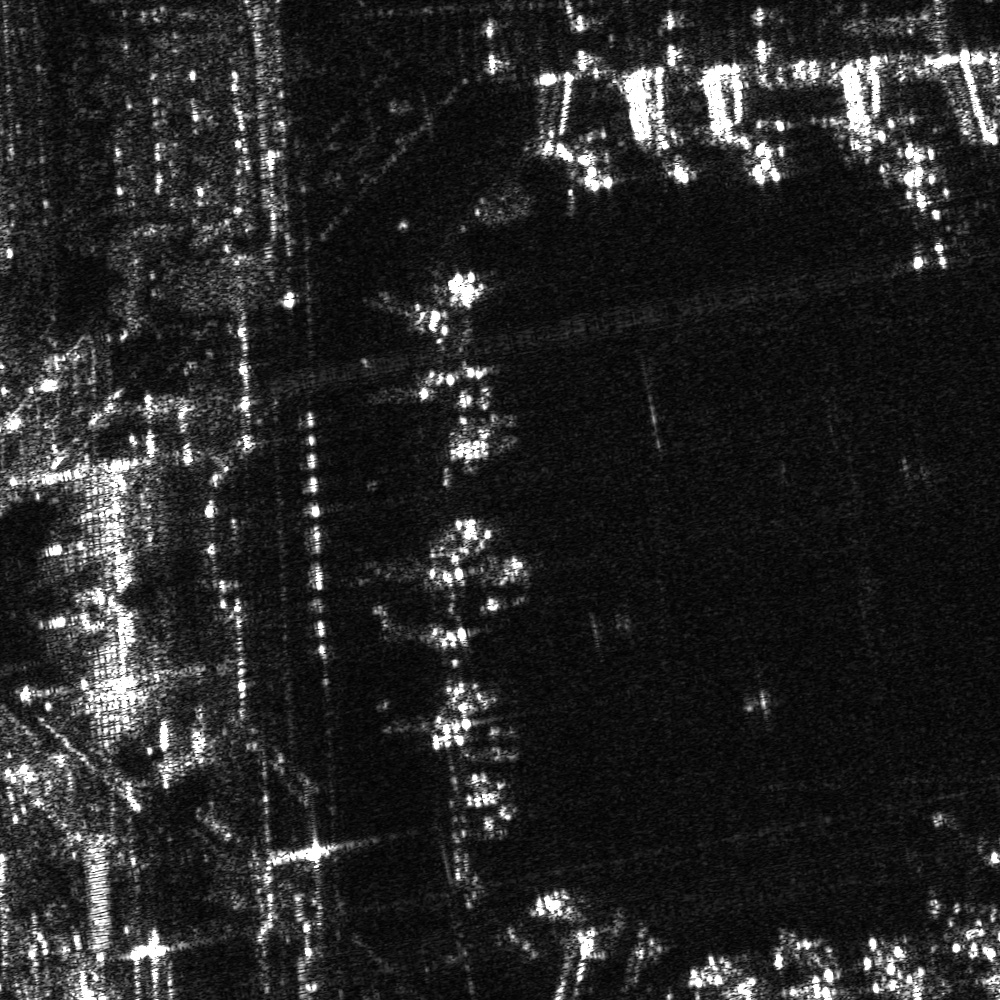A320/321: (424, 507, 531, 616), (879, 166, 973, 276), (414, 674, 524, 764)
